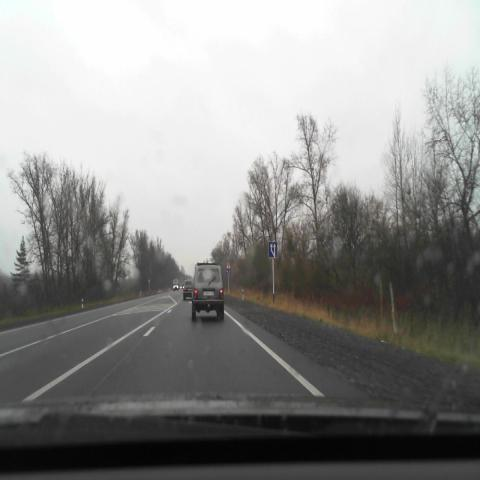5_15_3: (268, 241, 278, 258)
